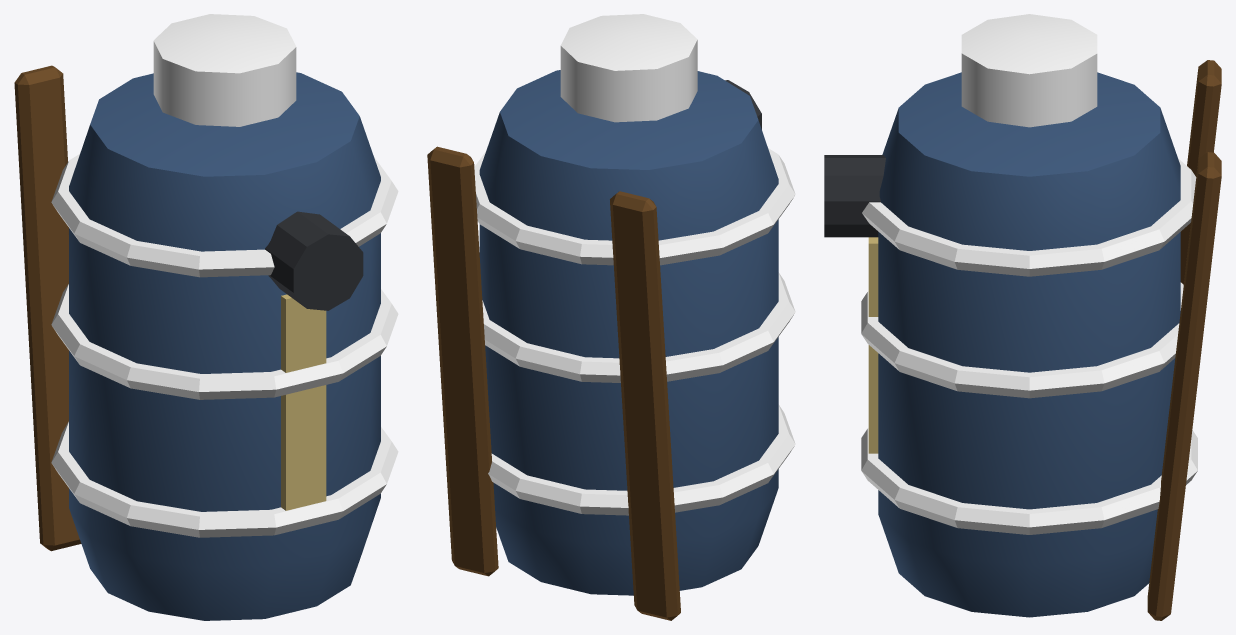
File: vacuum_pack.glb
3 views of the same model, side by side, from view 1: azimuth 30°, elevation 25°; view 2: azimuth 150°, elevation 25°; view 3: azimuth 270°, elevation 25° (orthographic). The views are drawn at different scales.
Visible parts, largest first — view 1: VacuumPack; view 2: VacuumPack; view 3: VacuumPack.
Part boxes in pixels (x1,y1,x2,y2): VacuumPack: [14, 14, 398, 620]; VacuumPack: [427, 14, 795, 620]; VacuumPack: [824, 14, 1221, 620].
Bounding box in the file's own units: 0.412 × 0.71 × 0.4742.
